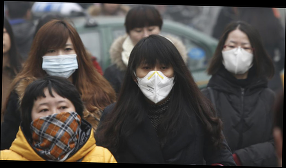with_mask: (29, 97, 78, 155), (135, 58, 176, 103), (40, 41, 81, 81), (221, 39, 255, 76)
without_mask: (131, 26, 159, 46)
